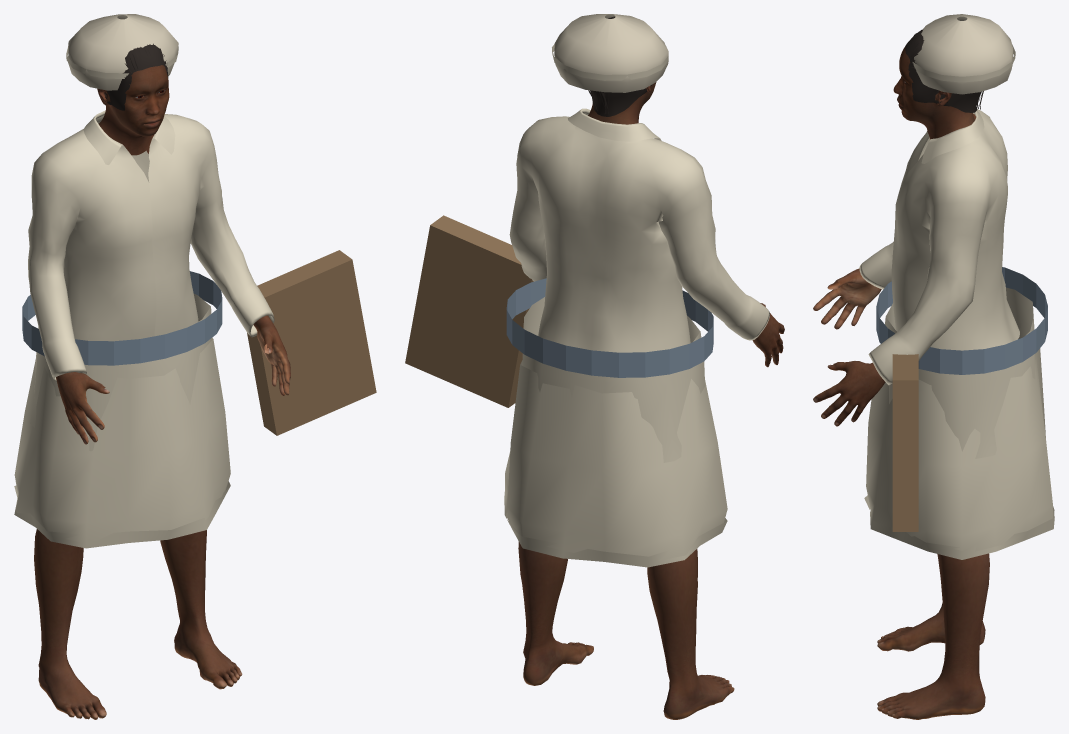
Rendered from mohurrir.glb.
The picture shows the model from 3 angles, left to right: view 1: azimuth 30°, elevation 25°; view 2: azimuth 150°, elevation 25°; view 3: azimuth 270°, elevation 25°; orthographic projection. The views are drawn at different scales.
Visible parts, largest first — view 1: Fitted cotton upper base_static_preview, Knee length wrapped dhoti_static_preview, village_farmer_MakeHuman_body_static_preview, Record folio, Mohurrir waist cloth, Soft cotton head wrap_static_preview, Kurta loose lower panel_static_preview, Dhoti woven border_static_preview, Farmer_hair_static_preview; view 2: Fitted cotton upper base_static_preview, Knee length wrapped dhoti_static_preview, Record folio, village_farmer_MakeHuman_body_static_preview, Mohurrir waist cloth, Soft cotton head wrap_static_preview, Kurta loose lower panel_static_preview, Dhoti woven border_static_preview, Farmer_hair_static_preview, Head wrap fold_static_preview; view 3: Fitted cotton upper base_static_preview, Knee length wrapped dhoti_static_preview, village_farmer_MakeHuman_body_static_preview, Kurta loose lower panel_static_preview, Soft cotton head wrap_static_preview, Record folio, Mohurrir waist cloth, Dhoti woven border_static_preview, Farmer_hair_static_preview, Head wrap fold_static_preview.
Boxes of the visible parts, left/top/right/bottom form: Fitted cotton upper base_static_preview: left=28, top=110, right=274, bottom=382; Knee length wrapped dhoti_static_preview: left=14, top=338, right=230, bottom=542; village_farmer_MakeHuman_body_static_preview: left=34, top=65, right=290, bottom=719; Record folio: left=247, top=250, right=376, bottom=435; Mohurrir waist cloth: left=22, top=271, right=222, bottom=365; Soft cotton head wrap_static_preview: left=68, top=14, right=178, bottom=90; Kurta loose lower panel_static_preview: left=30, top=294, right=212, bottom=451; Dhoti woven border_static_preview: left=14, top=481, right=230, bottom=548; Farmer_hair_static_preview: left=104, top=43, right=168, bottom=110; Fitted cotton upper base_static_preview: left=509, top=108, right=769, bottom=352; Knee length wrapped dhoti_static_preview: left=505, top=360, right=727, bottom=560; Record folio: left=405, top=215, right=533, bottom=407; village_farmer_MakeHuman_body_static_preview: left=518, top=82, right=784, bottom=719; Mohurrir waist cloth: left=506, top=278, right=713, bottom=377; Soft cotton head wrap_static_preview: left=554, top=14, right=668, bottom=92; Kurta loose lower panel_static_preview: left=522, top=297, right=705, bottom=462; Dhoti woven border_static_preview: left=504, top=489, right=727, bottom=567; Farmer_hair_static_preview: left=588, top=16, right=652, bottom=116; Head wrap fold_static_preview: left=552, top=44, right=668, bottom=80; Fitted cotton upper base_static_preview: left=859, top=109, right=1019, bottom=385; Knee length wrapped dhoti_static_preview: left=866, top=321, right=1052, bottom=551; village_farmer_MakeHuman_body_static_preview: left=813, top=46, right=989, bottom=719; Kurta loose lower panel_static_preview: left=885, top=287, right=1035, bottom=458; Soft cotton head wrap_static_preview: left=914, top=14, right=1013, bottom=94; Record folio: left=892, top=354, right=918, bottom=531; Mohurrir waist cloth: left=876, top=267, right=1047, bottom=374; Dhoti woven border_static_preview: left=864, top=495, right=1054, bottom=559; Farmer_hair_static_preview: left=905, top=29, right=983, bottom=112; Head wrap fold_static_preview: left=912, top=44, right=1015, bottom=82.
Size of the model in its own units: 0.8751 by 1.67 by 0.5552.
Materials: 9 (2 with a texture image).
